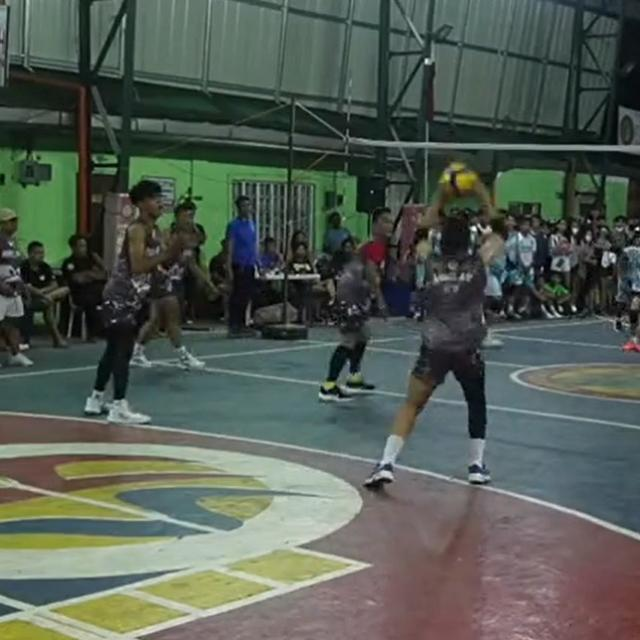volleyball: (440, 163, 478, 198)
